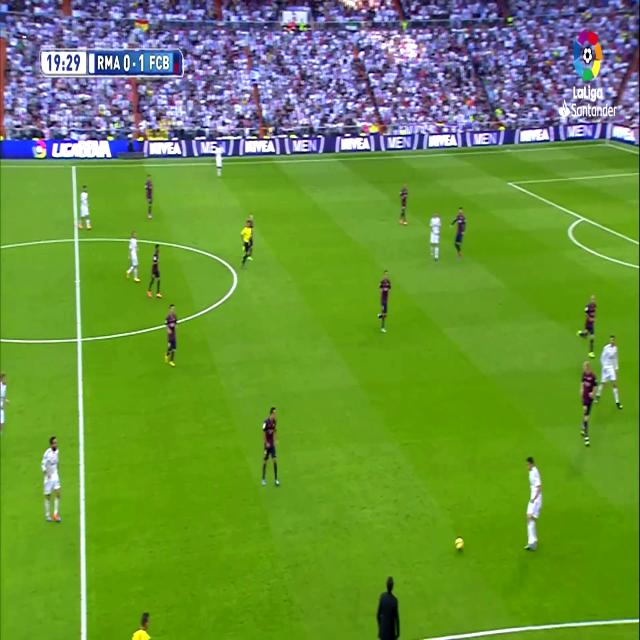halfcircle_bottom: (72, 320, 87, 356)
halfcircle_top: (70, 225, 83, 253)
midline_top_intersection: (69, 160, 79, 174)
top_arc_area_intersection: (579, 210, 587, 226)
